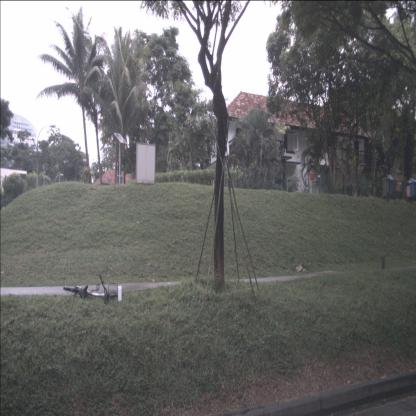vehicle-bicycle: (63, 273, 124, 311)
